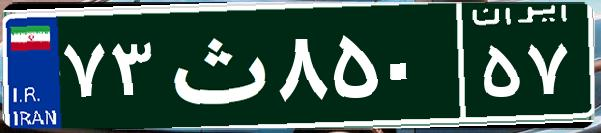0: (385, 28, 445, 110)
3: (110, 28, 158, 105)
5: (330, 28, 385, 110), (475, 38, 525, 113)
7: (57, 26, 110, 107), (525, 38, 570, 115)
8: (273, 28, 330, 110)
ث: (158, 15, 273, 115)
